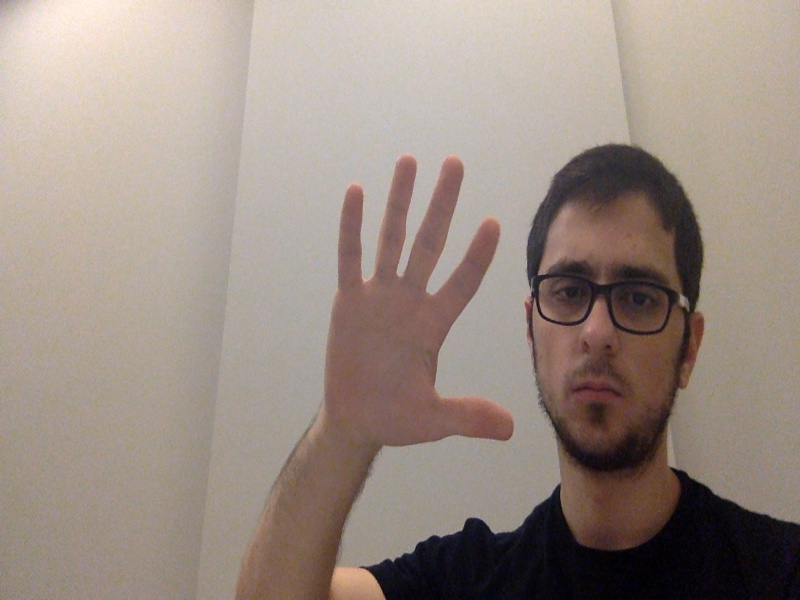5-hand: (324, 155, 521, 453)
